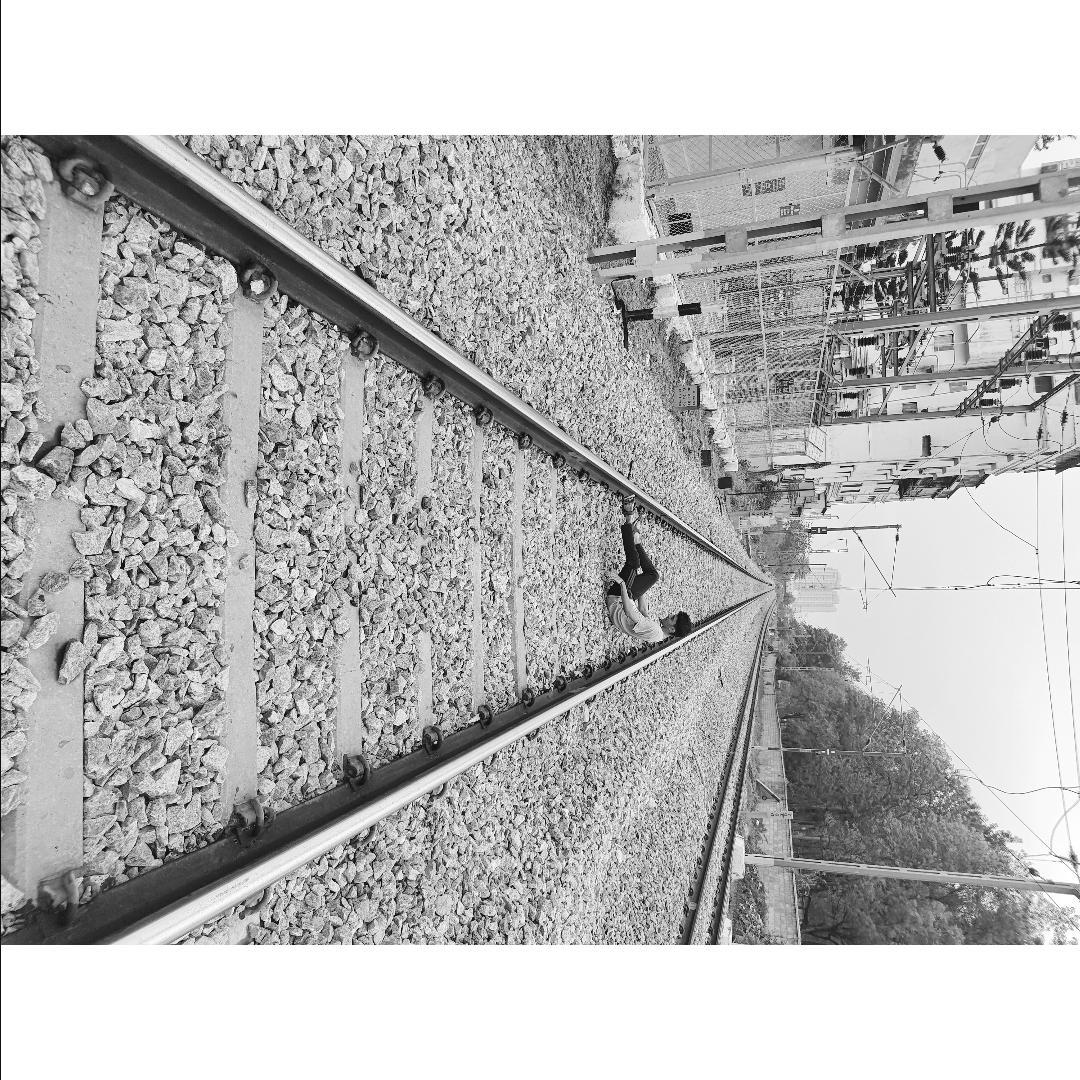sitting: (602, 494, 692, 644)
track: (13, 135, 786, 945)
